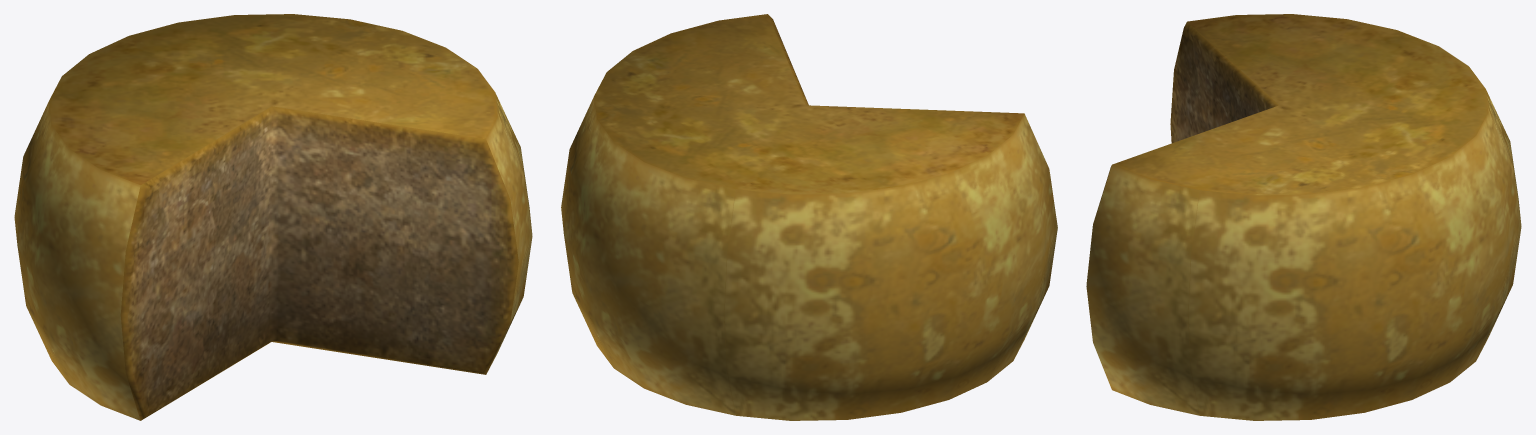
Rendered from Cheese_Wheel_3_4_collider.obj.
3 views of the same model, side by side, from view 1: azimuth 30°, elevation 25°; view 2: azimuth 150°, elevation 25°; view 3: azimuth 270°, elevation 25° (orthographic). The views are drawn at different scales.
Parts seen in each view (by area): view 1: Cheese_Wheel_3_4; view 2: Cheese_Wheel_3_4; view 3: Cheese_Wheel_3_4.
Part boxes in pixels (left/top/right/bottom): Cheese_Wheel_3_4: left=14, top=14, right=532, bottom=420; Cheese_Wheel_3_4: left=561, top=14, right=1057, bottom=420; Cheese_Wheel_3_4: left=1086, top=14, right=1521, bottom=420.
Bounding box in the file's own units: 0.3145 × 0.1579 × 0.276.
